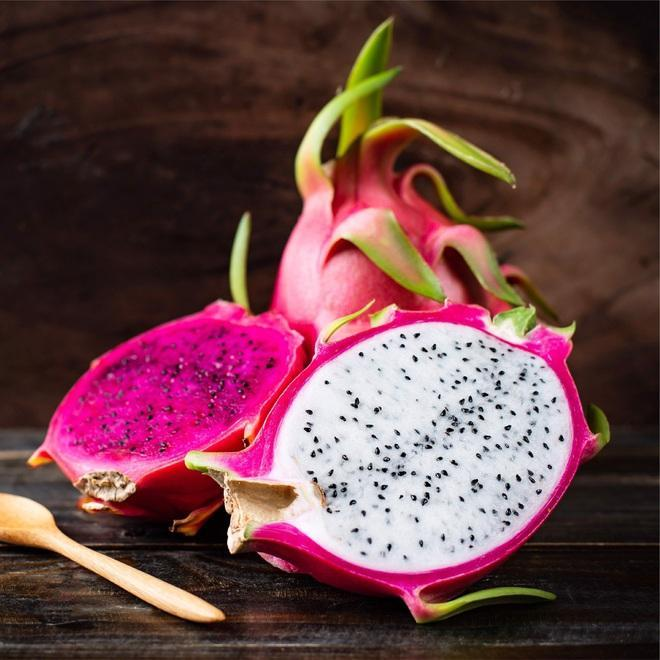dragon-fruit: (250, 300, 590, 595), (42, 302, 308, 522), (272, 178, 517, 367)
